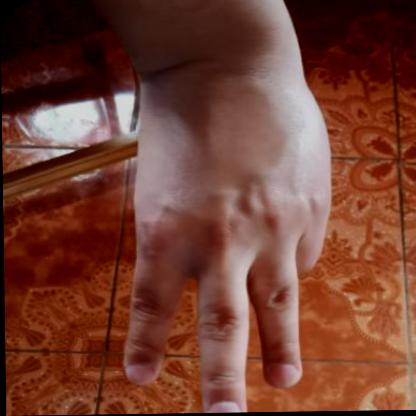M: (102, 58, 352, 415)
